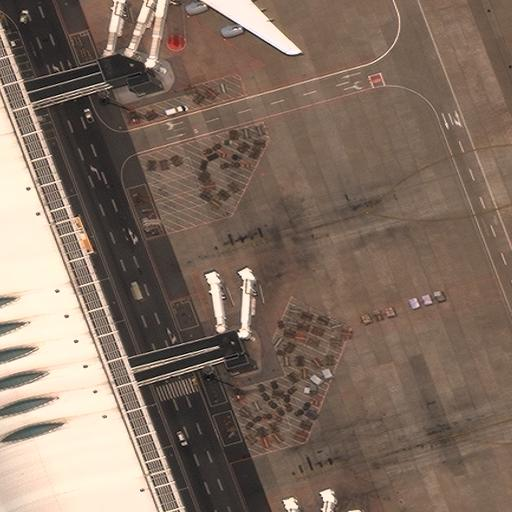Large Civil Transport: (124, 0, 302, 55)
